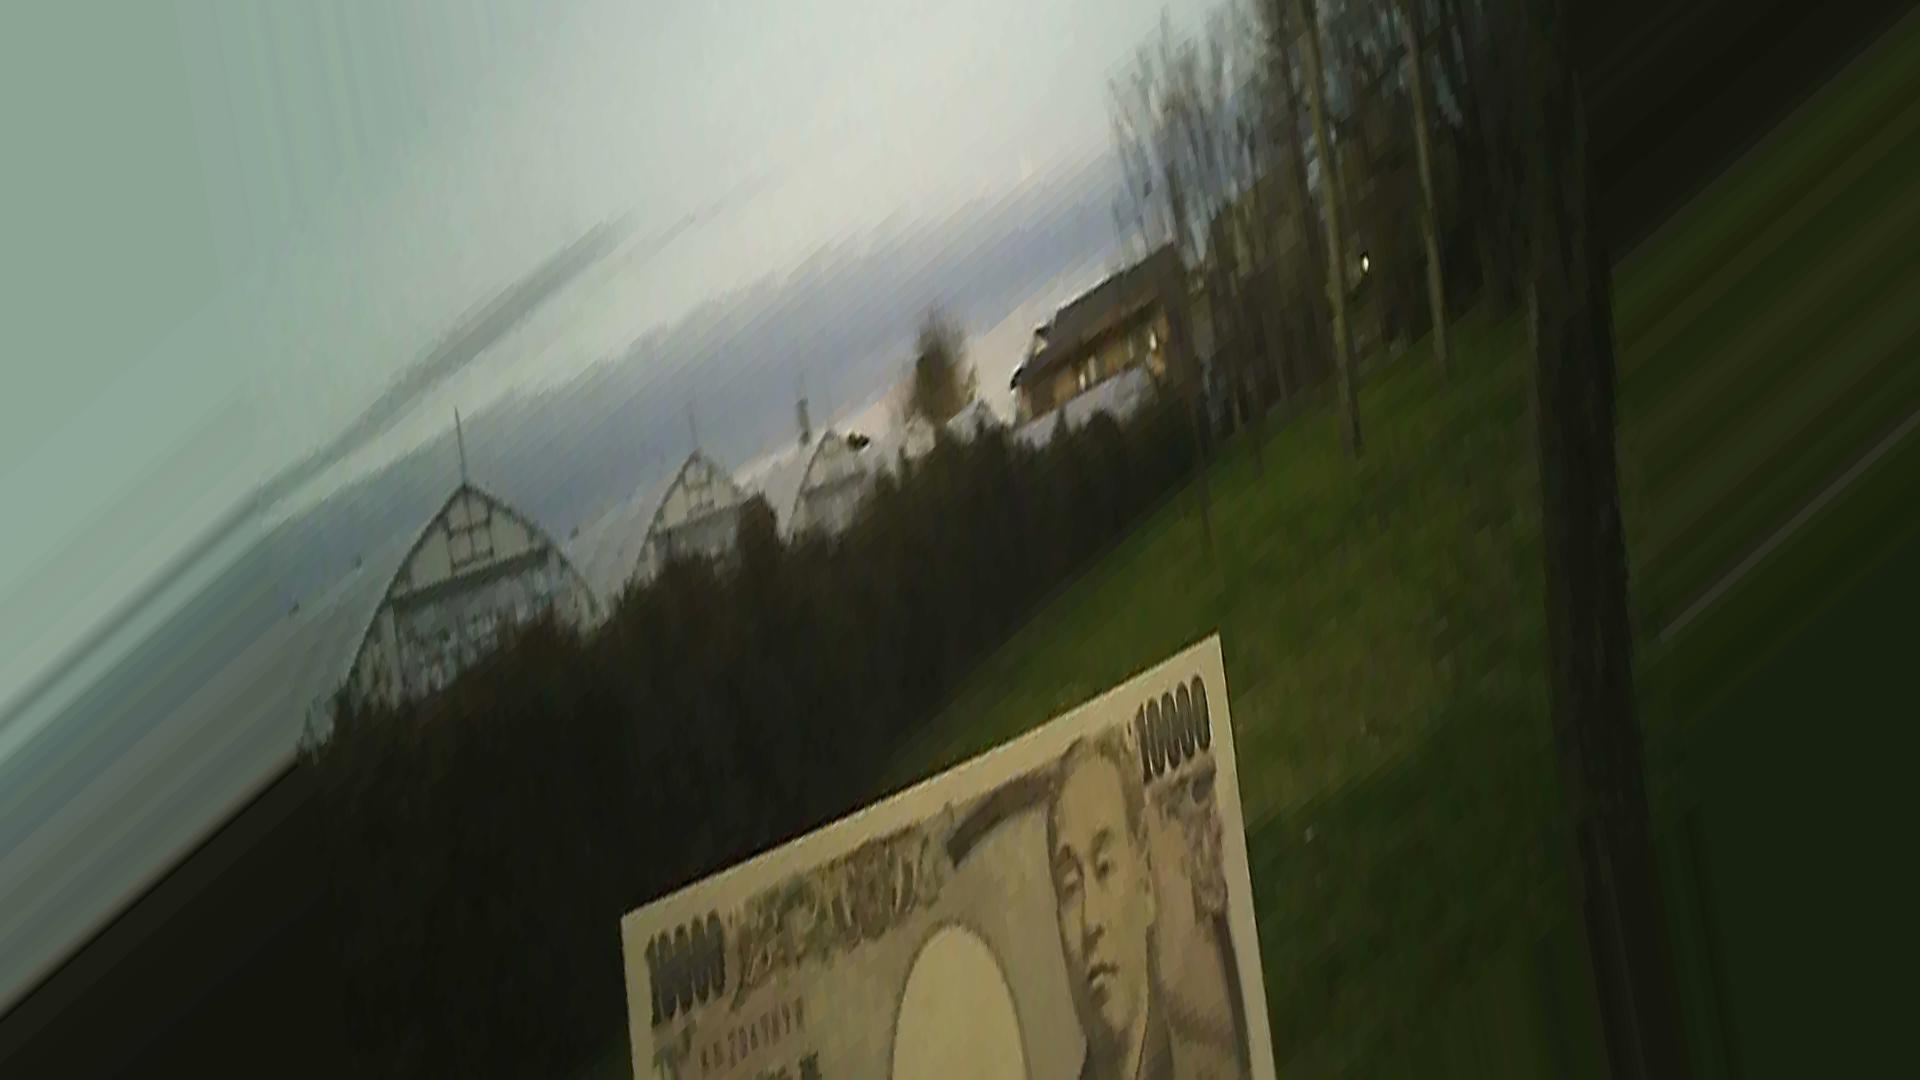10,000 Yen: (580, 624, 1313, 1079)
